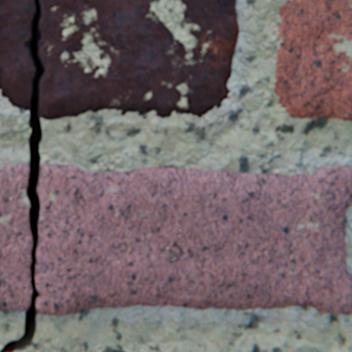brick: (273, 0, 351, 120)
broken_brick: (35, 163, 351, 314), (39, 0, 238, 119), (0, 164, 31, 309), (0, 0, 35, 110)
crack: (0, 0, 44, 351), (307, 298, 313, 307), (309, 172, 314, 179), (80, 169, 83, 176)
